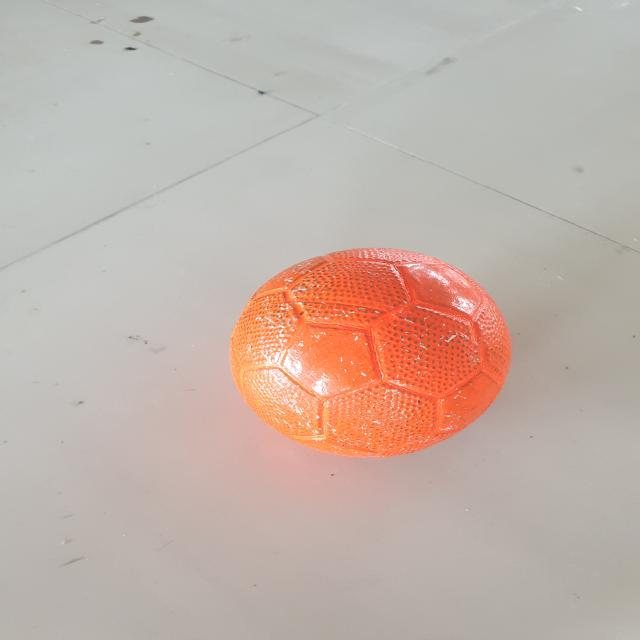bola: (208, 233, 533, 480)
